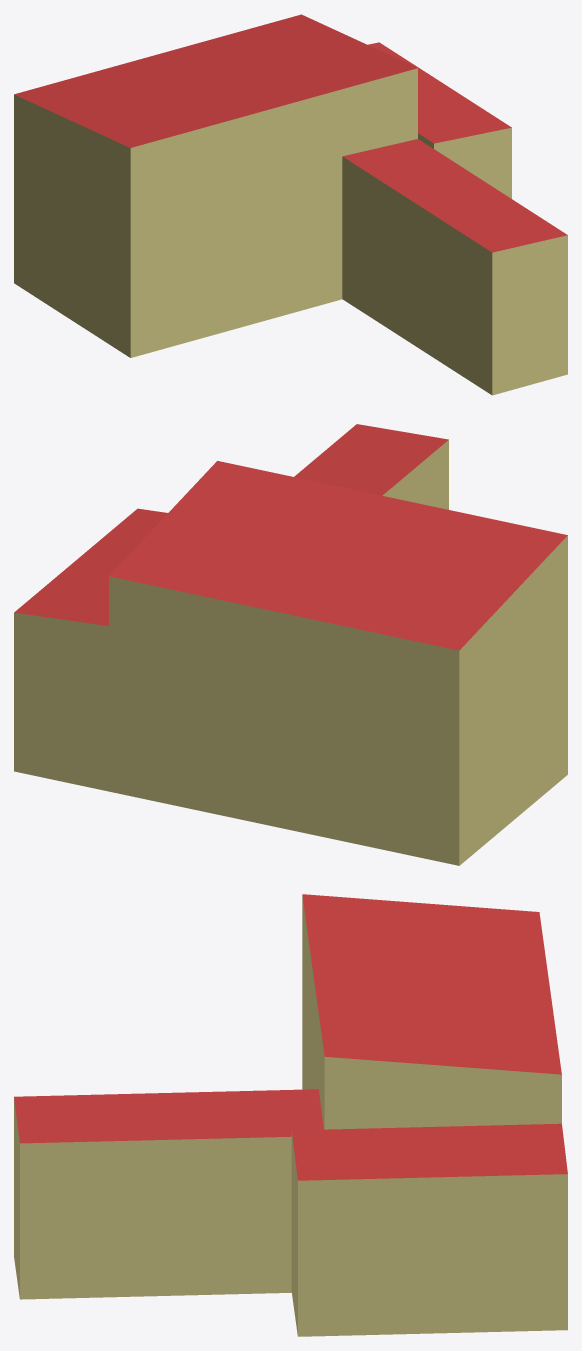
The picture shows the model from 3 angles, top to bottom: view 1: azimuth 30°, elevation 25°; view 2: azimuth 150°, elevation 25°; view 3: azimuth 270°, elevation 25°; orthographic projection. The views are drawn at different scales.
Bounding box in the file's own units: 18.25 × 20.03 × 9.39.
